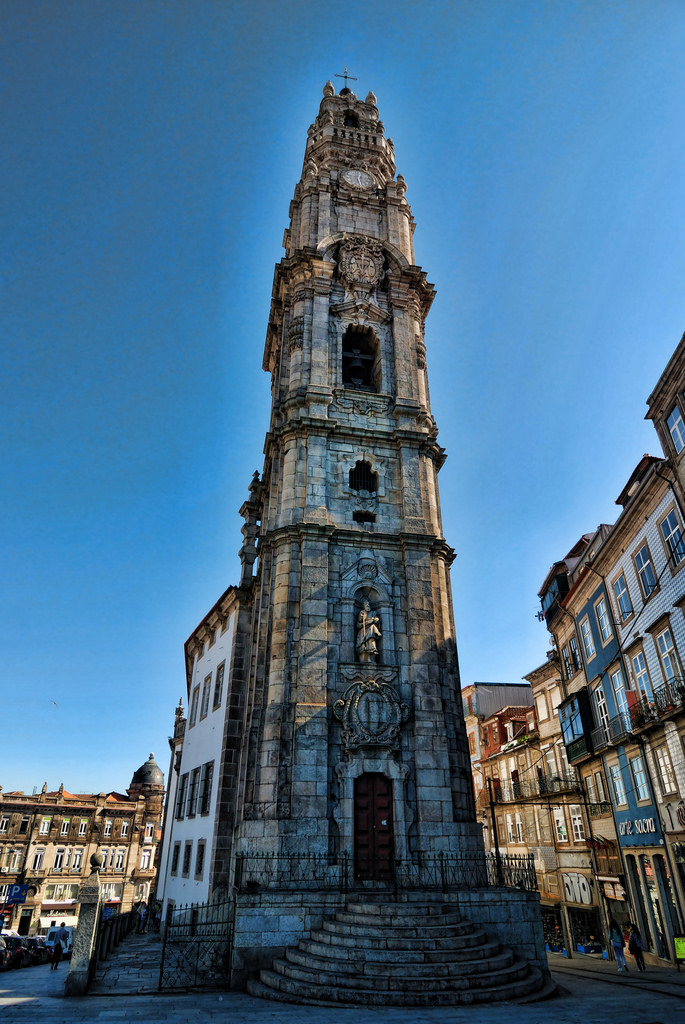clerigos: (226, 68, 489, 889)
